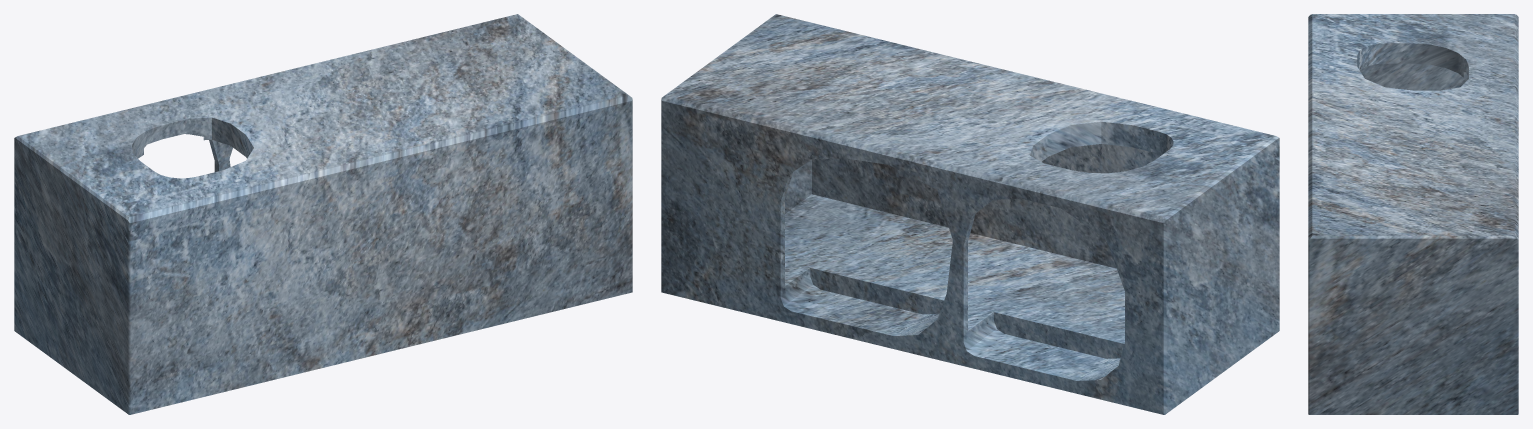
File: lavatrastesCuerpo.obj
3 renders of one model, left to right at view 1: azimuth 30°, elevation 25°; view 2: azimuth 150°, elevation 25°; view 3: azimuth 270°, elevation 25°, orthographic. The views are drawn at different scales.
Parts seen in each view (by area): view 1: pCube13; view 2: pCube13; view 3: pCube13.
Part boxes in pixels (x1,y1,x2,y2): pCube13: (14,14,632,414); pCube13: (661,14,1279,414); pCube13: (1308,14,1518,414).
Bounding box in the file's own units: 99.28 × 36.84 × 39.46.
1 material, 1 textured.
